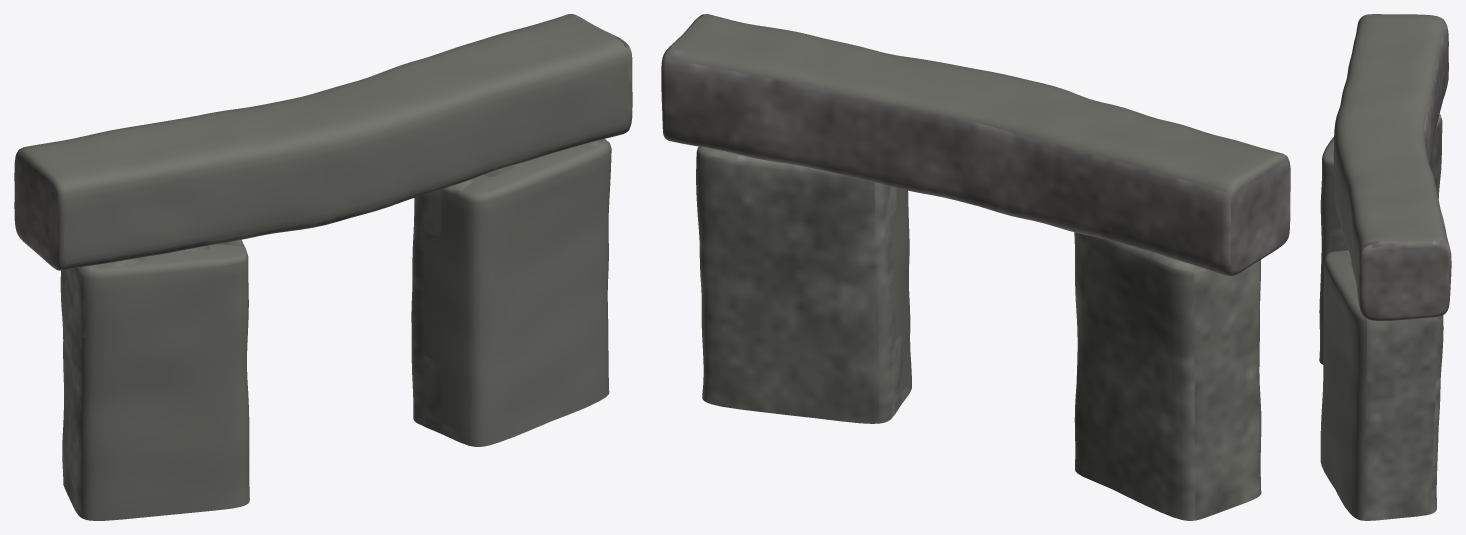
The model's file is AraHenge07.glb.
The picture shows the model from 3 angles, left to right: view 1: azimuth 30°, elevation 25°; view 2: azimuth 150°, elevation 25°; view 3: azimuth 270°, elevation 25°; orthographic projection. The views are drawn at different scales.
Parts seen in each view (by area): view 1: AraHenge07; view 2: AraHenge07; view 3: AraHenge07.
Part boxes in pixels (box(x1,y1,x2,y2)): AraHenge07: box(14, 14, 632, 520); AraHenge07: box(661, 14, 1290, 520); AraHenge07: box(1319, 14, 1451, 520).
Size of the model in its own units: 4.86 by 2.77 by 1.16.
2 materials, 1 textured.
